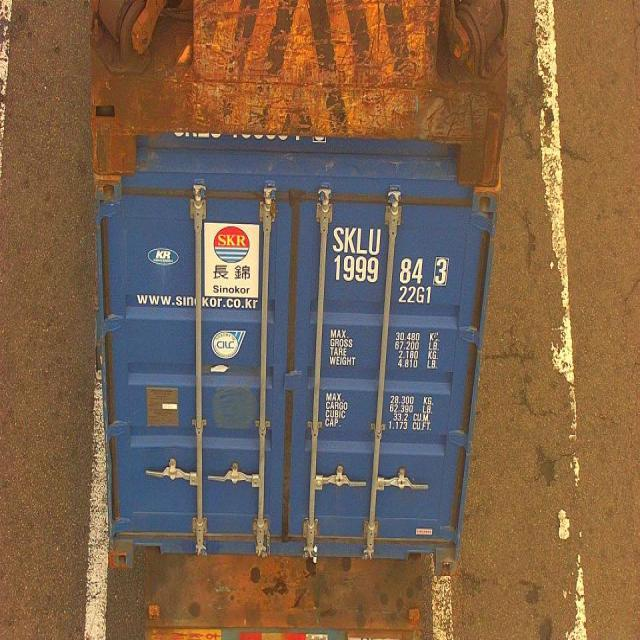ISO: (399, 288, 432, 308)
container_number: (333, 228, 456, 278)
